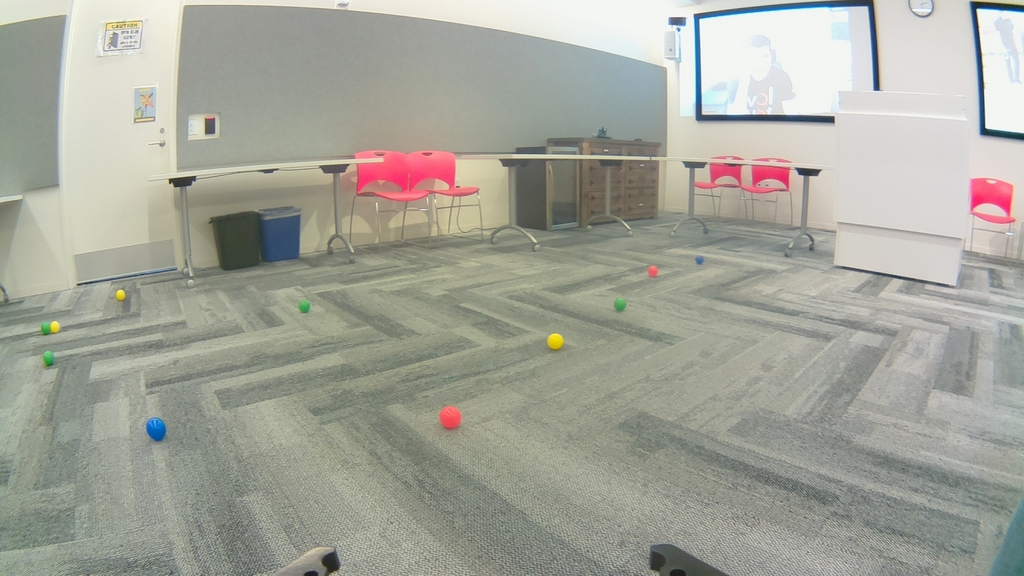ball: (116, 288, 125, 300)
